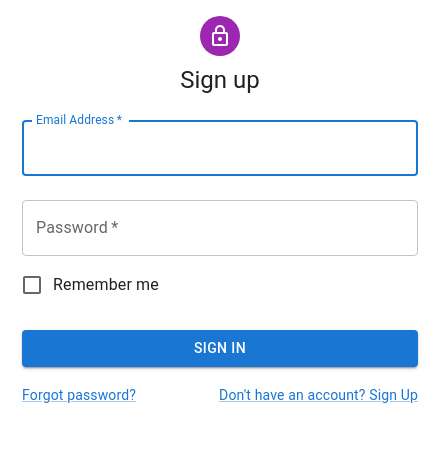
Test: SignIn Component › Test case for required fields of signIn
Simulate user input
Click the button "Sign in" at [220, 348], box [22,330,418,366]
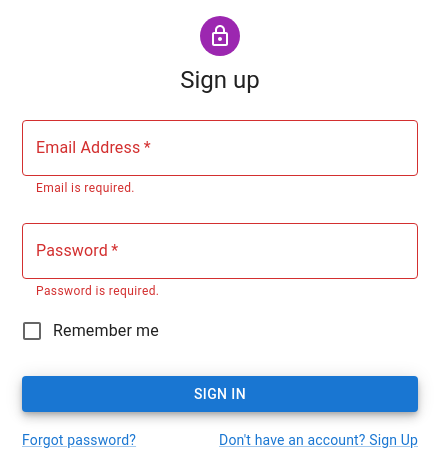
Expected: the text "Email is required." is shown, [36,181,135,195]
Expected: the text "Password is required." is shown, [36,284,159,298]
